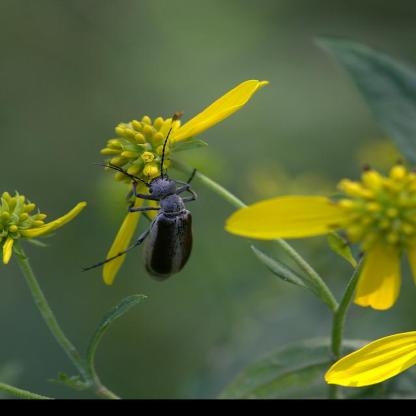beetle: (112, 154, 206, 281)
